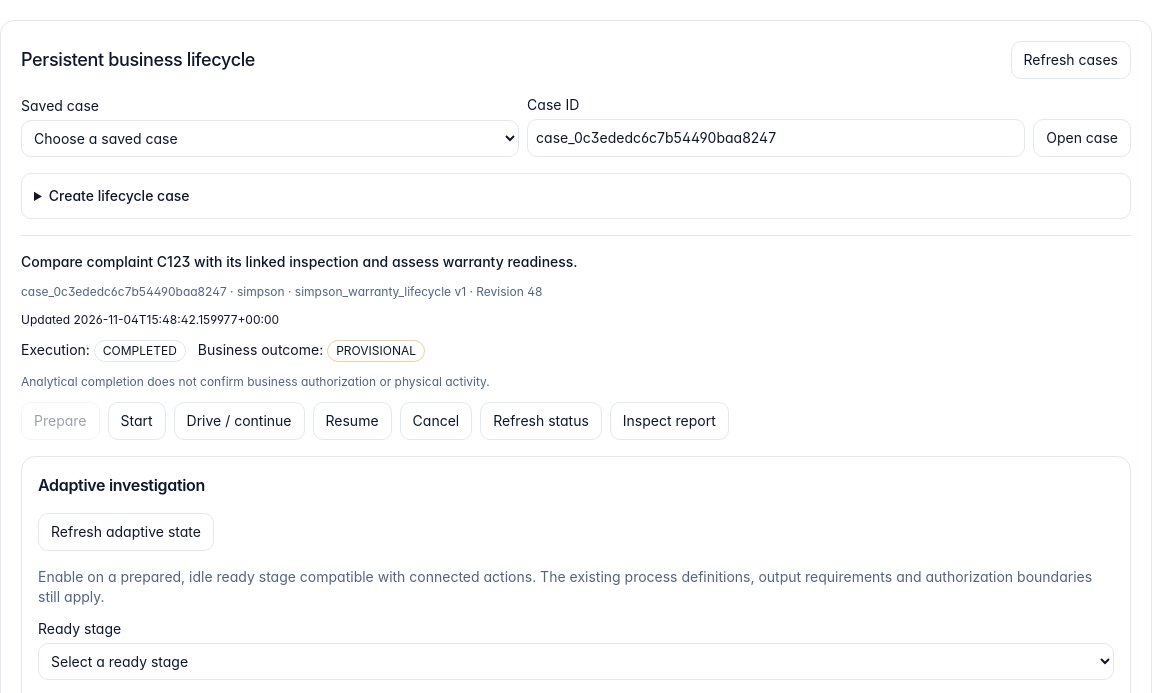
persistent lifecycle presentation › handles revision conflicts with fresh server state and no automatic command replay
Click the button "Start" at coordinates (137, 421), box [108,402,166,440]
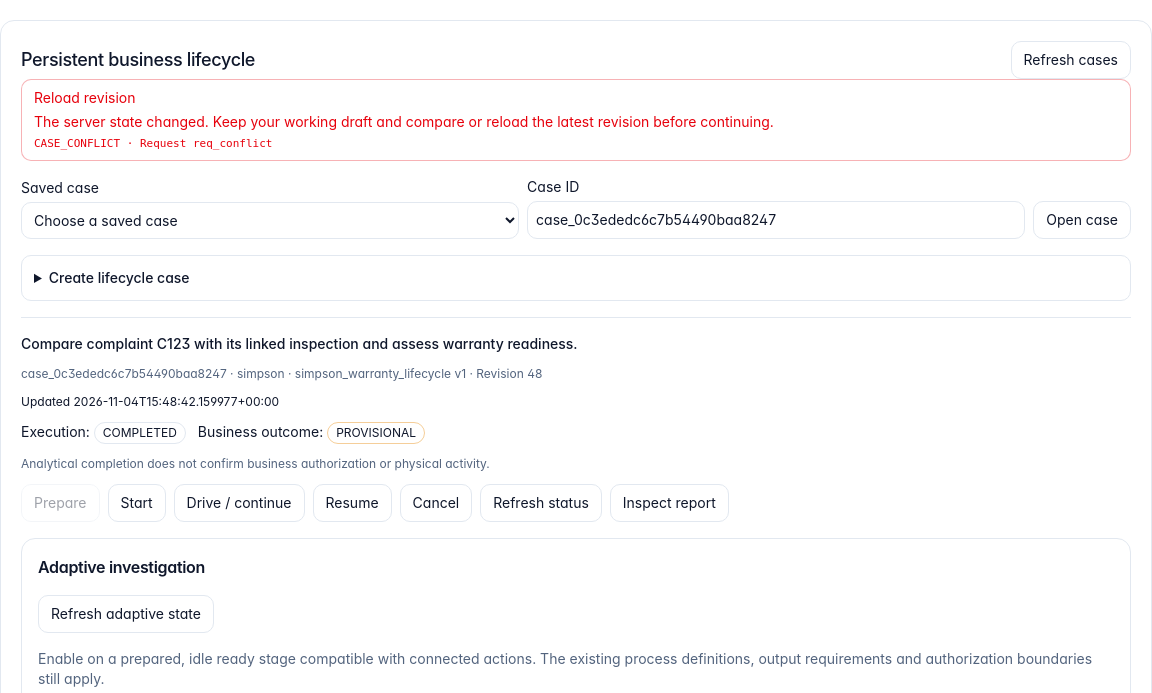
Now the text "Reload revision" is shown, box [34,89,136,106]
